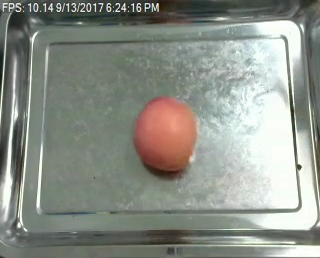Apple: (129, 93, 199, 176)
